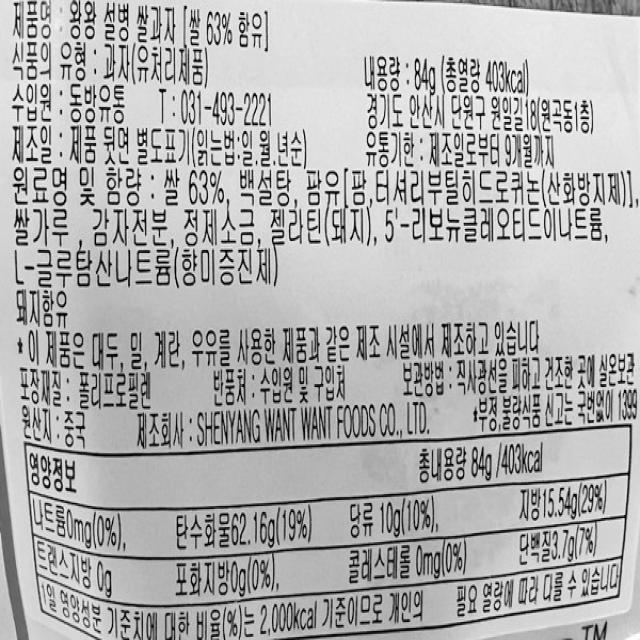Nutrition Label: (14, 439, 630, 640)
